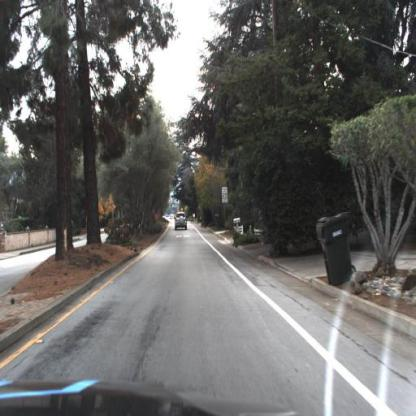car: (172, 209, 190, 233)
